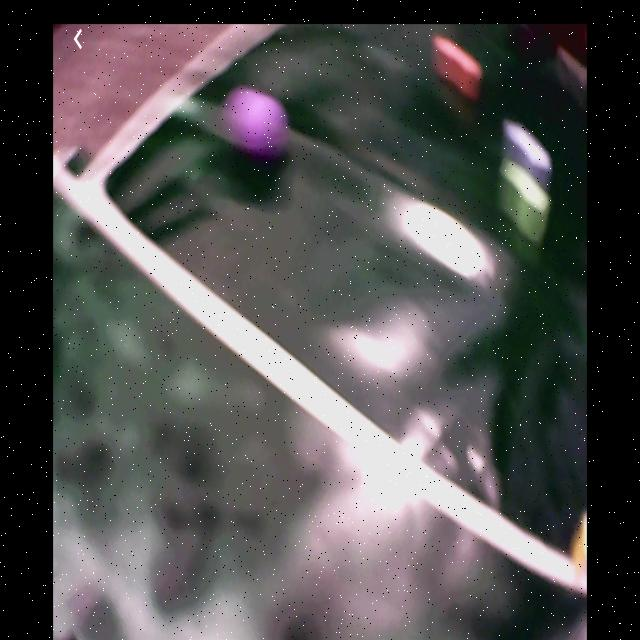ball: (233, 88, 288, 156)
